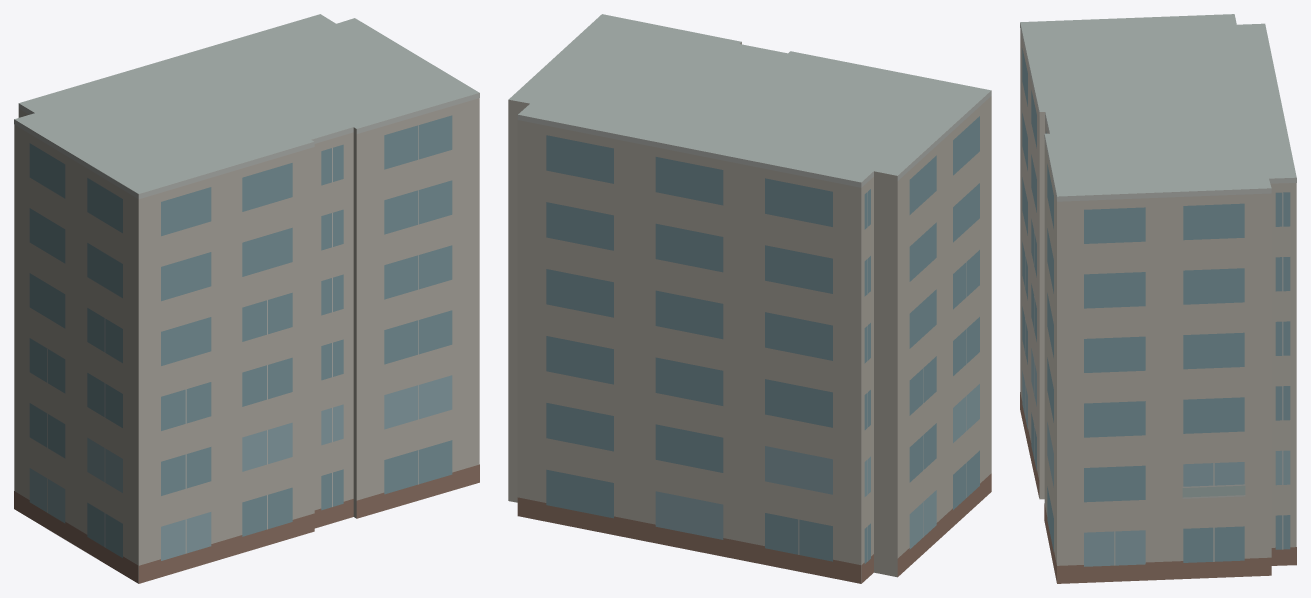
File: survey-upis-32759626.glb
3 views of the same model, side by side, from view 1: azimuth 30°, elevation 25°; view 2: azimuth 150°, elevation 25°; view 3: azimuth 270°, elevation 25° (orthographic). The views are drawn at different scales.
Visible parts, largest first — view 1: survey-upis-32759626.tmp; view 2: survey-upis-32759626.tmp; view 3: survey-upis-32759626.tmp.
Boxes of the visible parts, x1,y1,x2,y2 form: survey-upis-32759626.tmp: (14,14,479,583); survey-upis-32759626.tmp: (508,14,991,583); survey-upis-32759626.tmp: (1020,14,1296,583).
Bounding box in the file's own units: 18.5 × 18.3 × 11.86.
